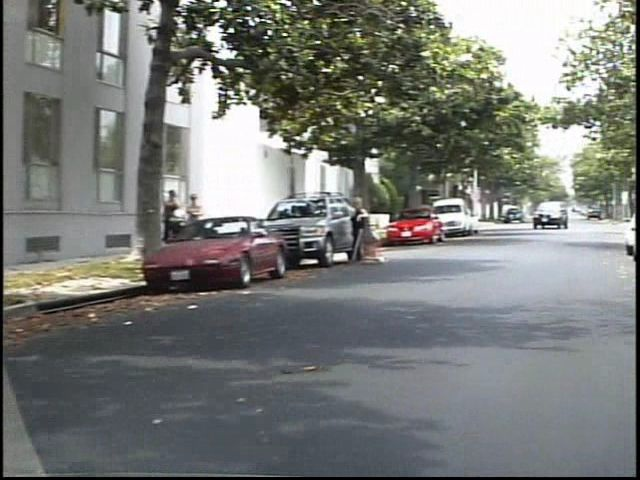person: (357, 193, 388, 272), (171, 185, 199, 253), (196, 189, 220, 251)
